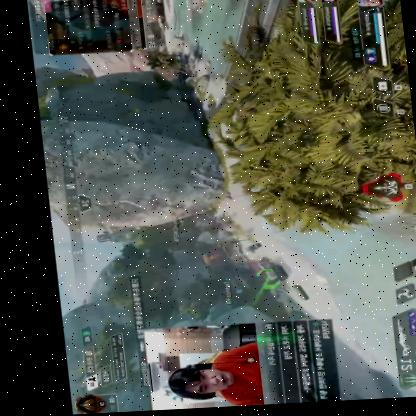streamer: (154, 343, 252, 411)
